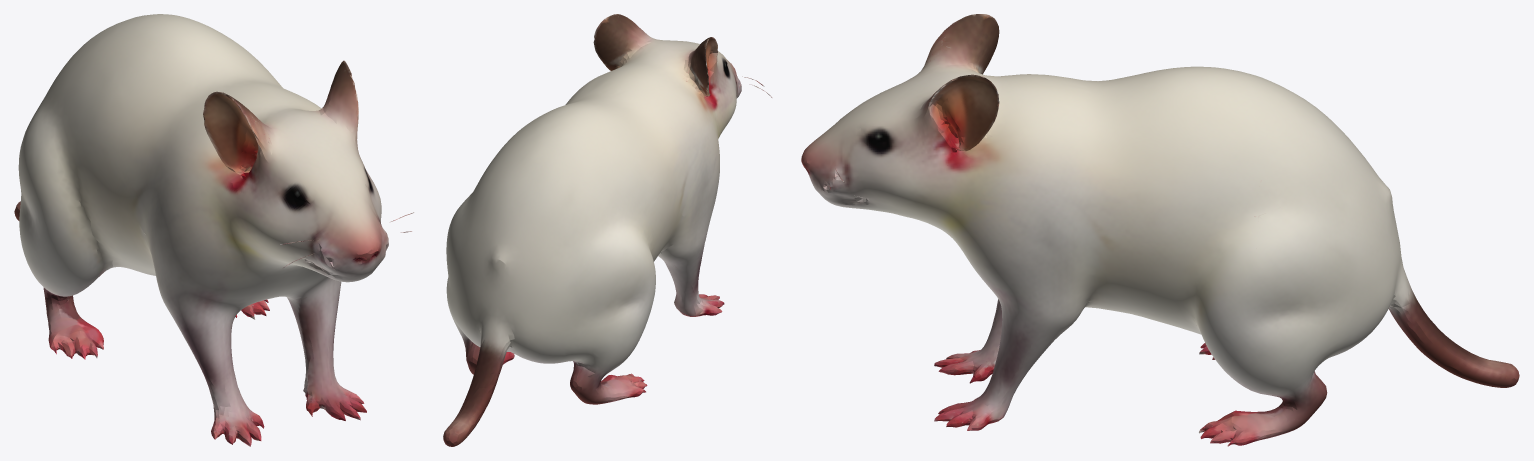
File: rat.glb
3 views of the same model, side by side, from view 1: azimuth 30°, elevation 25°; view 2: azimuth 150°, elevation 25°; view 3: azimuth 270°, elevation 25° (orthographic). The views are drawn at different scales.
Visible parts, largest first — view 1: model; view 2: model; view 3: model.
Part boxes in pixels (x1,y1,x2,y2): model: (14,14,413,446); model: (443,14,772,446); model: (801,14,1519,446).
Bounding box in the file's own units: 0.7416 × 1.03 × 1.9.
1 material, 1 textured.
